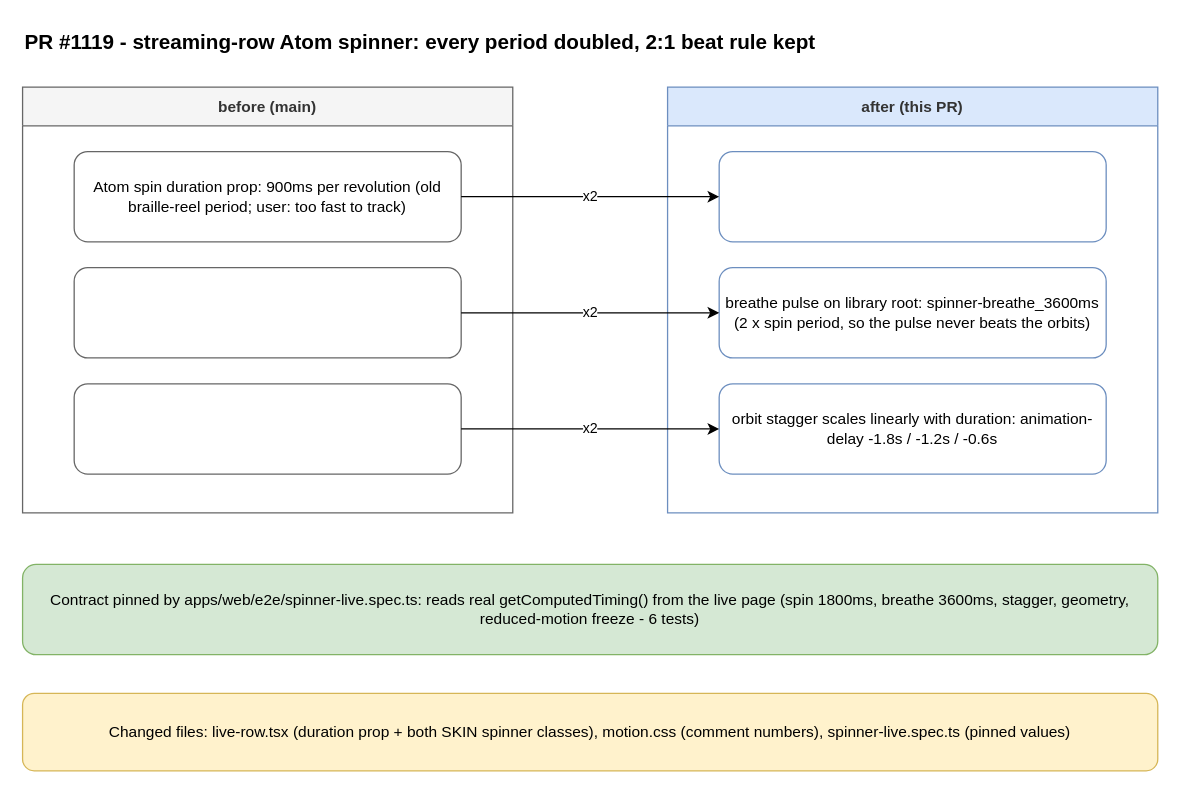
This 1180x793 diagram has some shape labels left out. Each missing label, with the centre of its shape:
Atom spin duration prop: 1800ms per revolution (conventional spinner rate): (912,196)
breathe pulse on library root: spinner-breathe_1800ms: (267,312)
orbit stagger (library formula): animation-delay -0.9s / -0.6s / -0.3s: (267,428)
